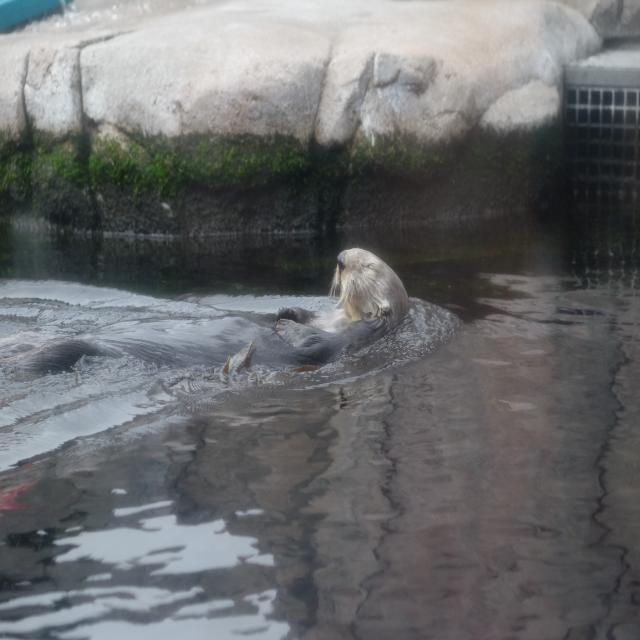otter: (227, 249, 412, 367)
